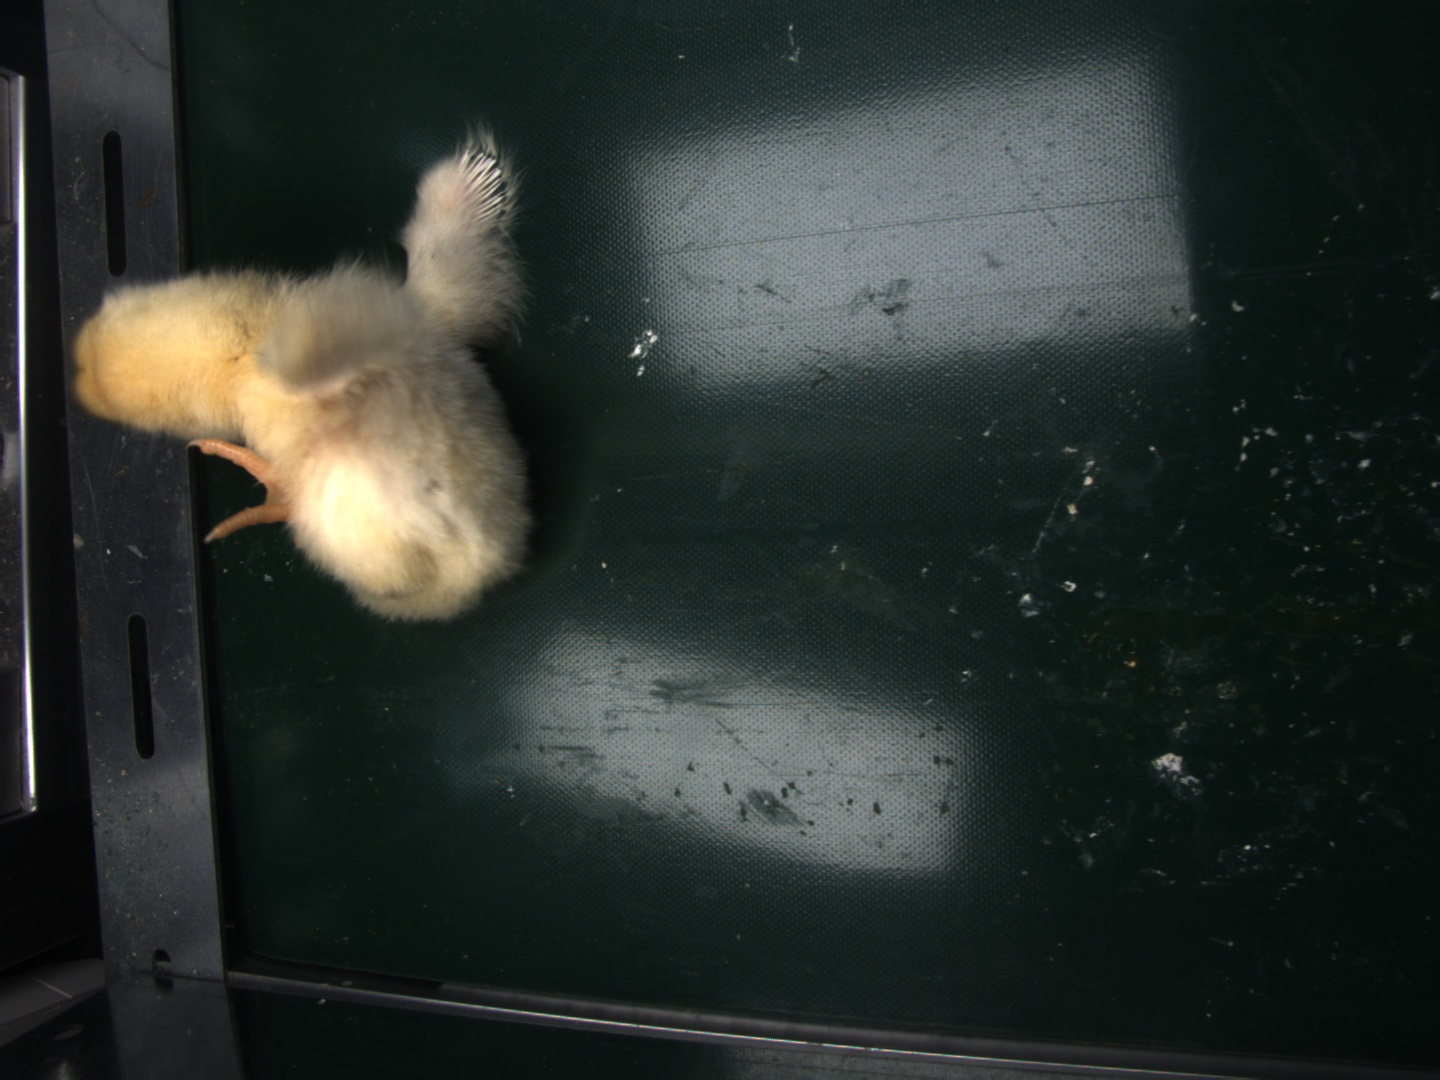male: (459, 149, 506, 223)
